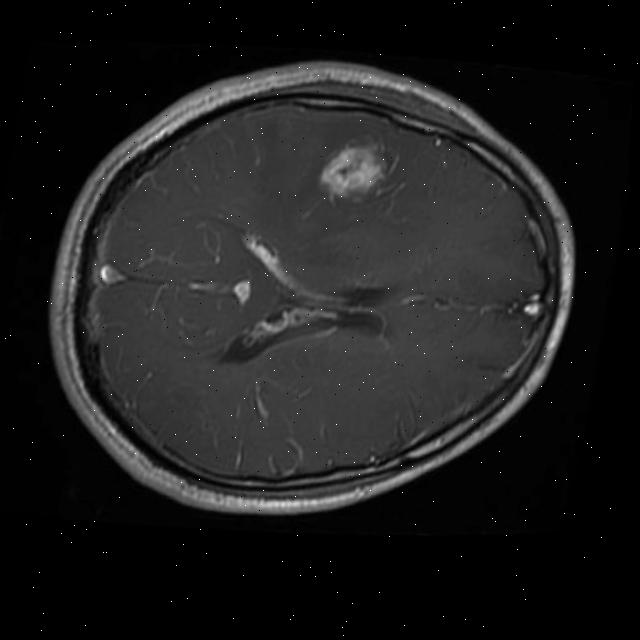Glioma: (315, 134, 392, 209)
